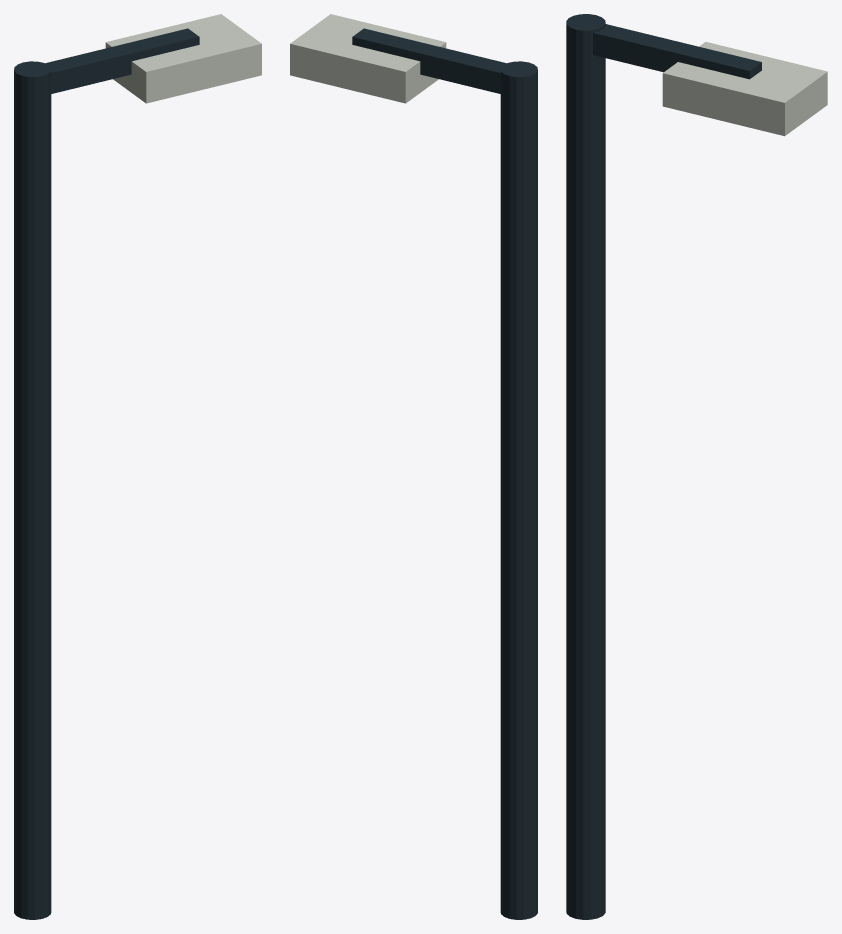
Rendered from lamp.glb.
3 views of the same model, side by side, from view 1: azimuth 30°, elevation 25°; view 2: azimuth 150°, elevation 25°; view 3: azimuth 330°, elevation 25° (orthographic). The views are drawn at different scales.
Visible parts, largest first — view 1: lamp_VISUAL; view 2: lamp_VISUAL; view 3: lamp_VISUAL.
Part boxes in pixels (<box>): lamp_VISUAL: <box>14,14,261,919</box>; lamp_VISUAL: <box>290,14,537,919</box>; lamp_VISUAL: <box>566,14,827,919</box>.
Size of what is drawn, in the model's own units: 3.2 by 11.43 by 1.
2 materials, 2 textured.
